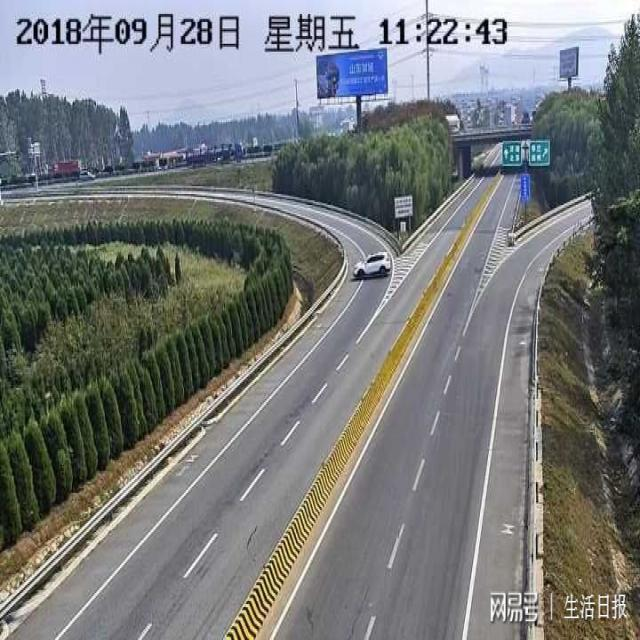point: (450, 94, 542, 239)
